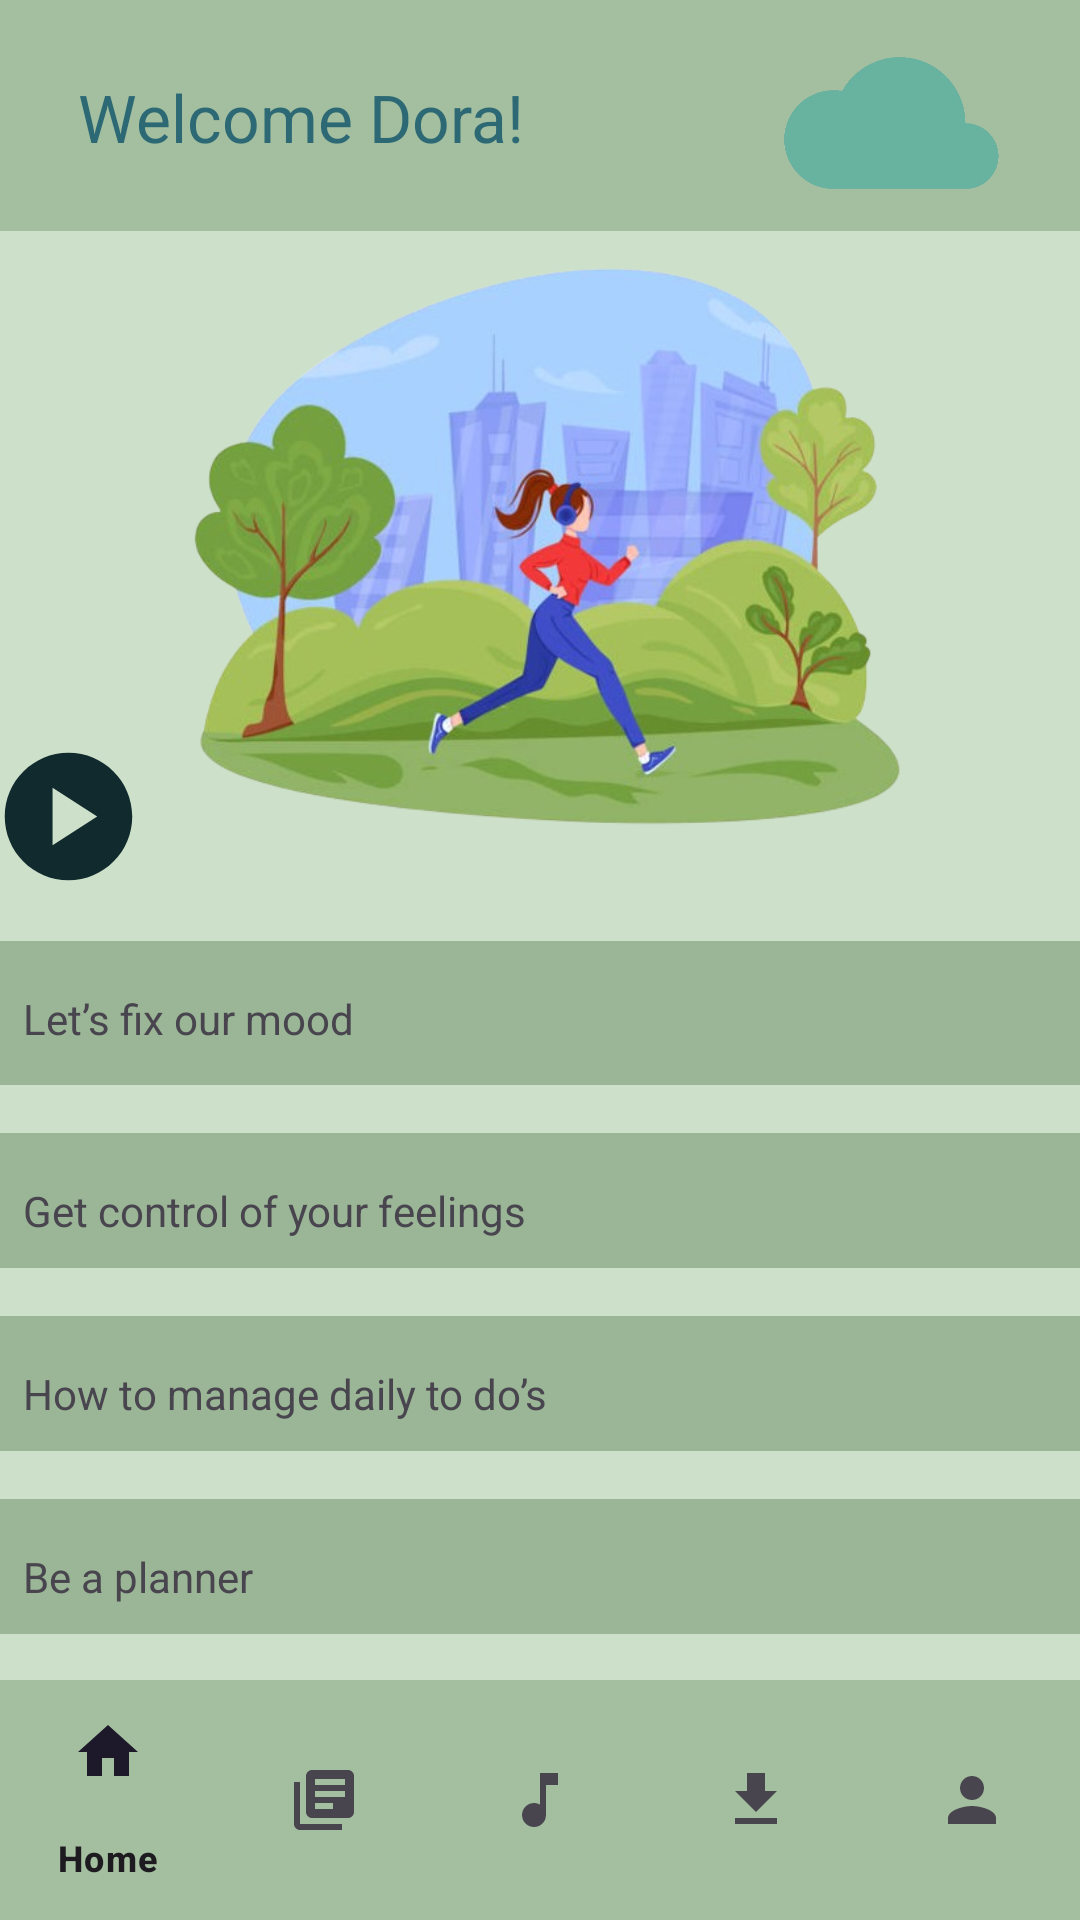

Named icons in this screenshot (1080*1920) and their centers, [x,y]:
play button: [68,816]
